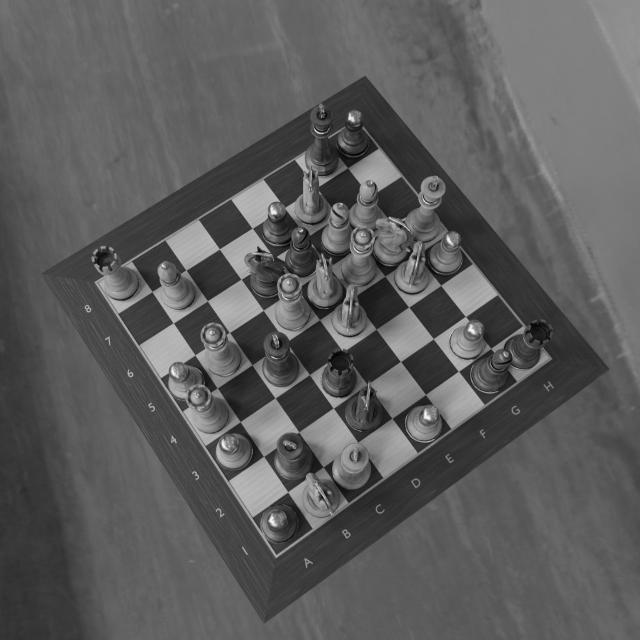chessboard: (97, 118, 553, 558)
